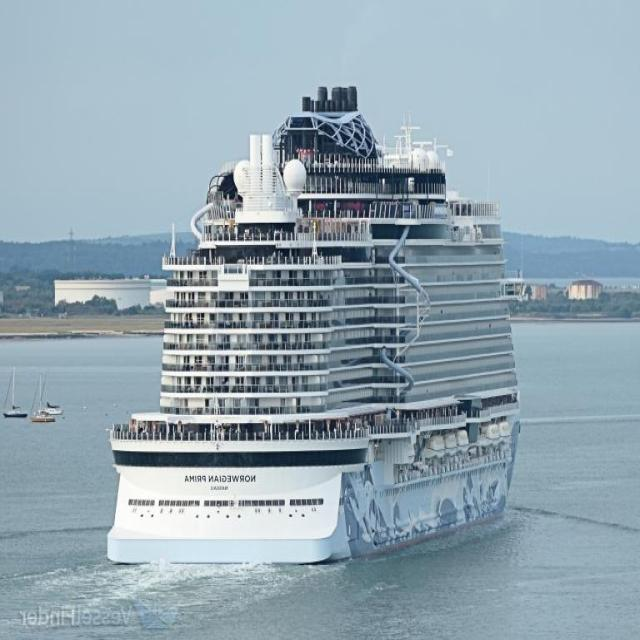PassengerShip: (101, 75, 556, 578)
